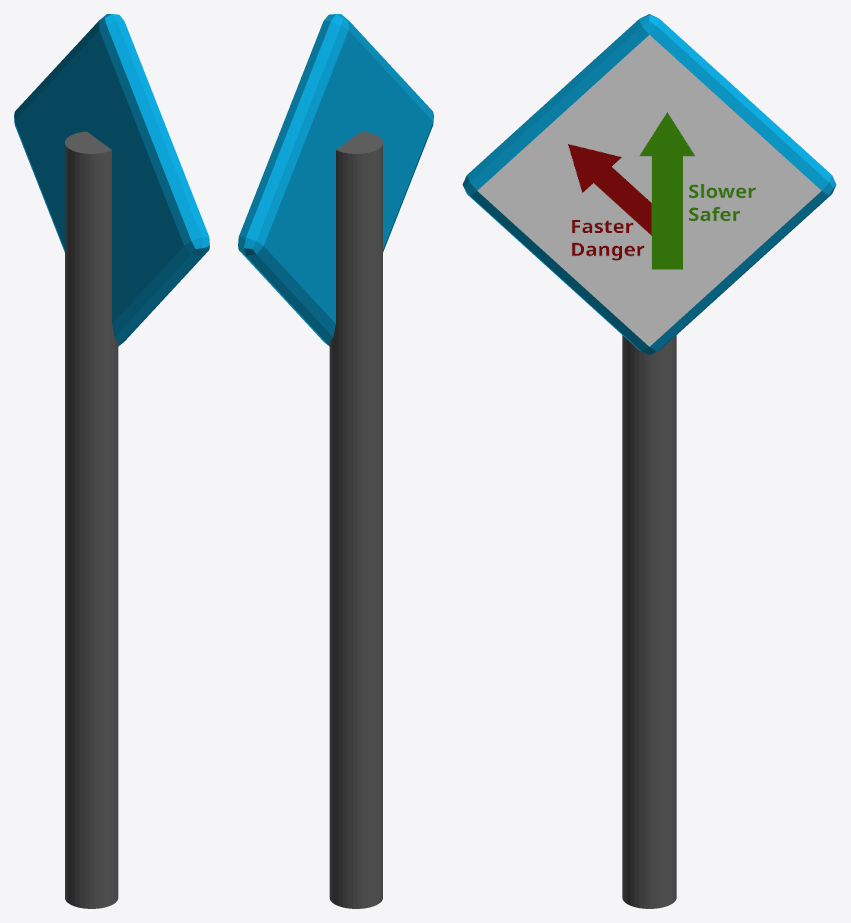
Rendered from SeñalGiro.fbx.
3 views of the same model, side by side, from view 1: azimuth 30°, elevation 25°; view 2: azimuth 150°, elevation 25°; view 3: azimuth 270°, elevation 25° (orthographic).
Visible parts, largest first — view 1: Cylinder; view 2: Cylinder; view 3: Cylinder.
Part boxes in pixels (x1,y1,x2,y2): Cylinder: (14,14,209,908); Cylinder: (238,14,433,908); Cylinder: (462,14,836,908).
Bounding box in the file's own units: 34.12 × 510 × 194.
